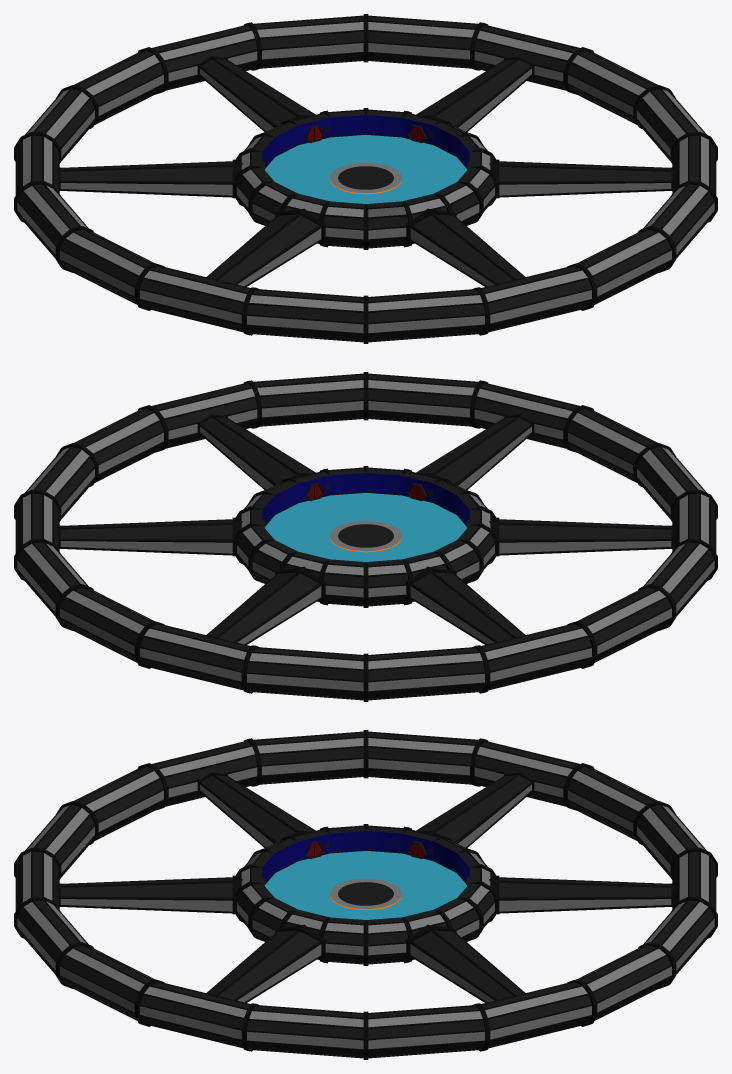
Rendered from Starport.FBX.
The picture shows the model from 3 angles, top to bottom: view 1: azimuth 30°, elevation 25°; view 2: azimuth 150°, elevation 25°; view 3: azimuth 270°, elevation 25°; orthographic projection.
Visible parts, largest first — view 1: Starport; view 2: Starport; view 3: Starport.
Boxes of the visible parts, x1,y1,x2,y2 form: Starport: (14, 14, 717, 343); Starport: (14, 372, 717, 701); Starport: (14, 730, 717, 1059).
Bounding box in the file's own units: 321 × 21.25 × 317.
